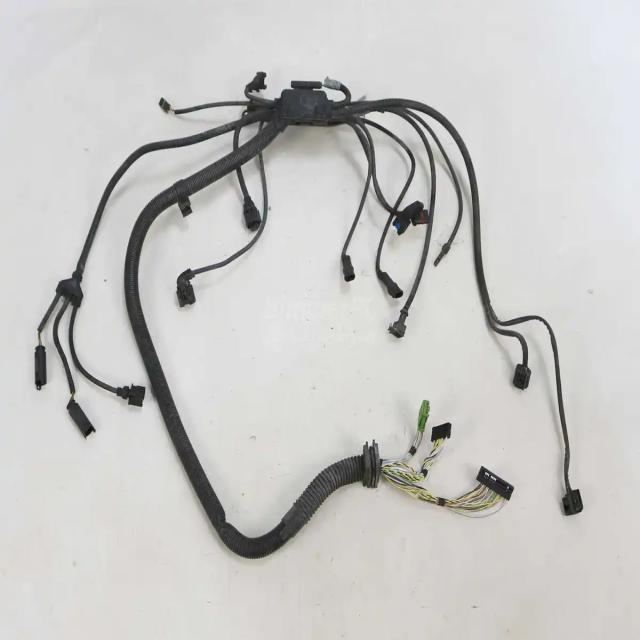connector: (562, 489, 585, 518), (341, 251, 358, 283)
